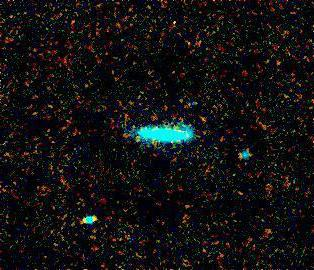star: (191, 107, 221, 137)
